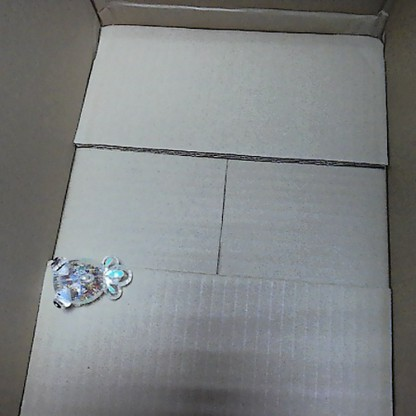whitefish: (45, 248, 130, 312)
